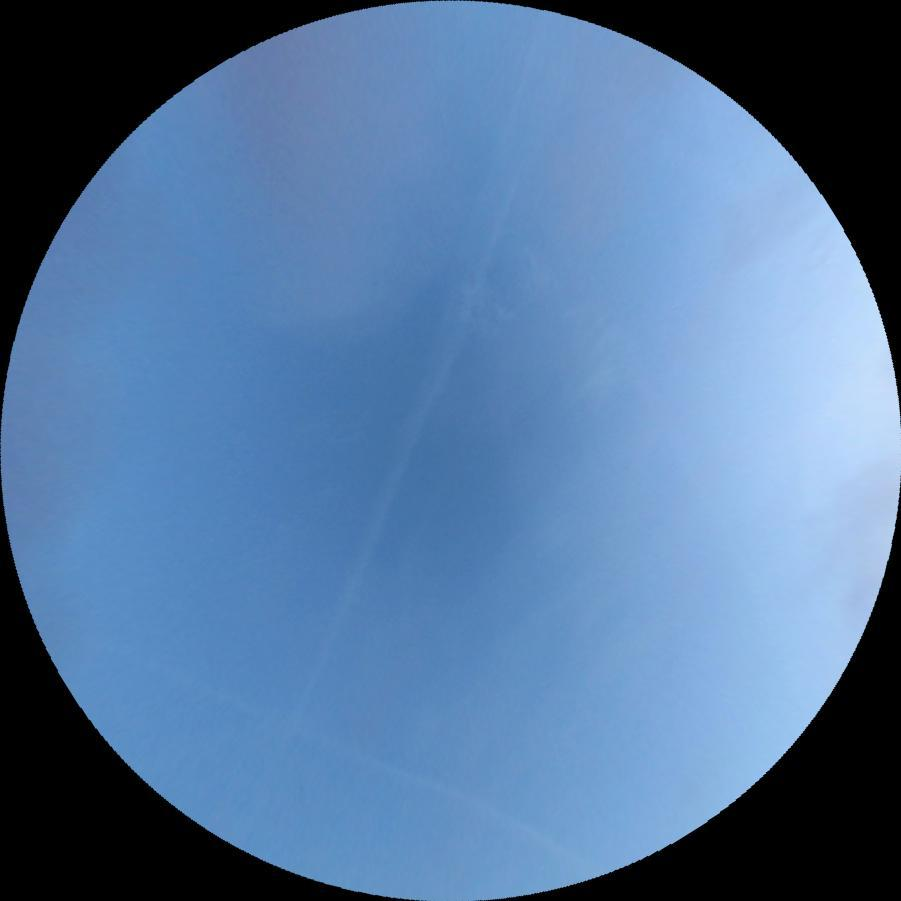contrail old: (141, 656, 567, 857)
contrail veryold: (262, 4, 589, 726)
